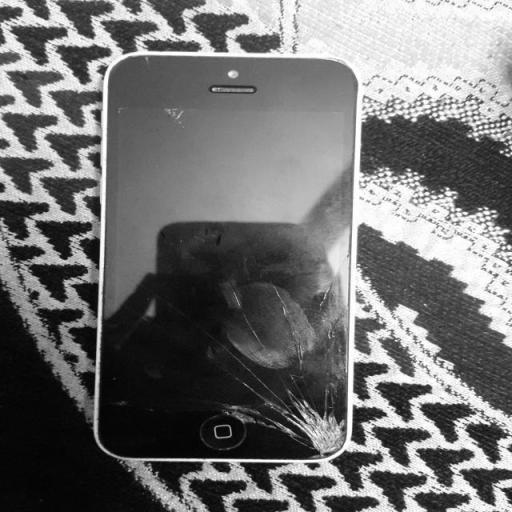phone: (93, 51, 368, 468)
